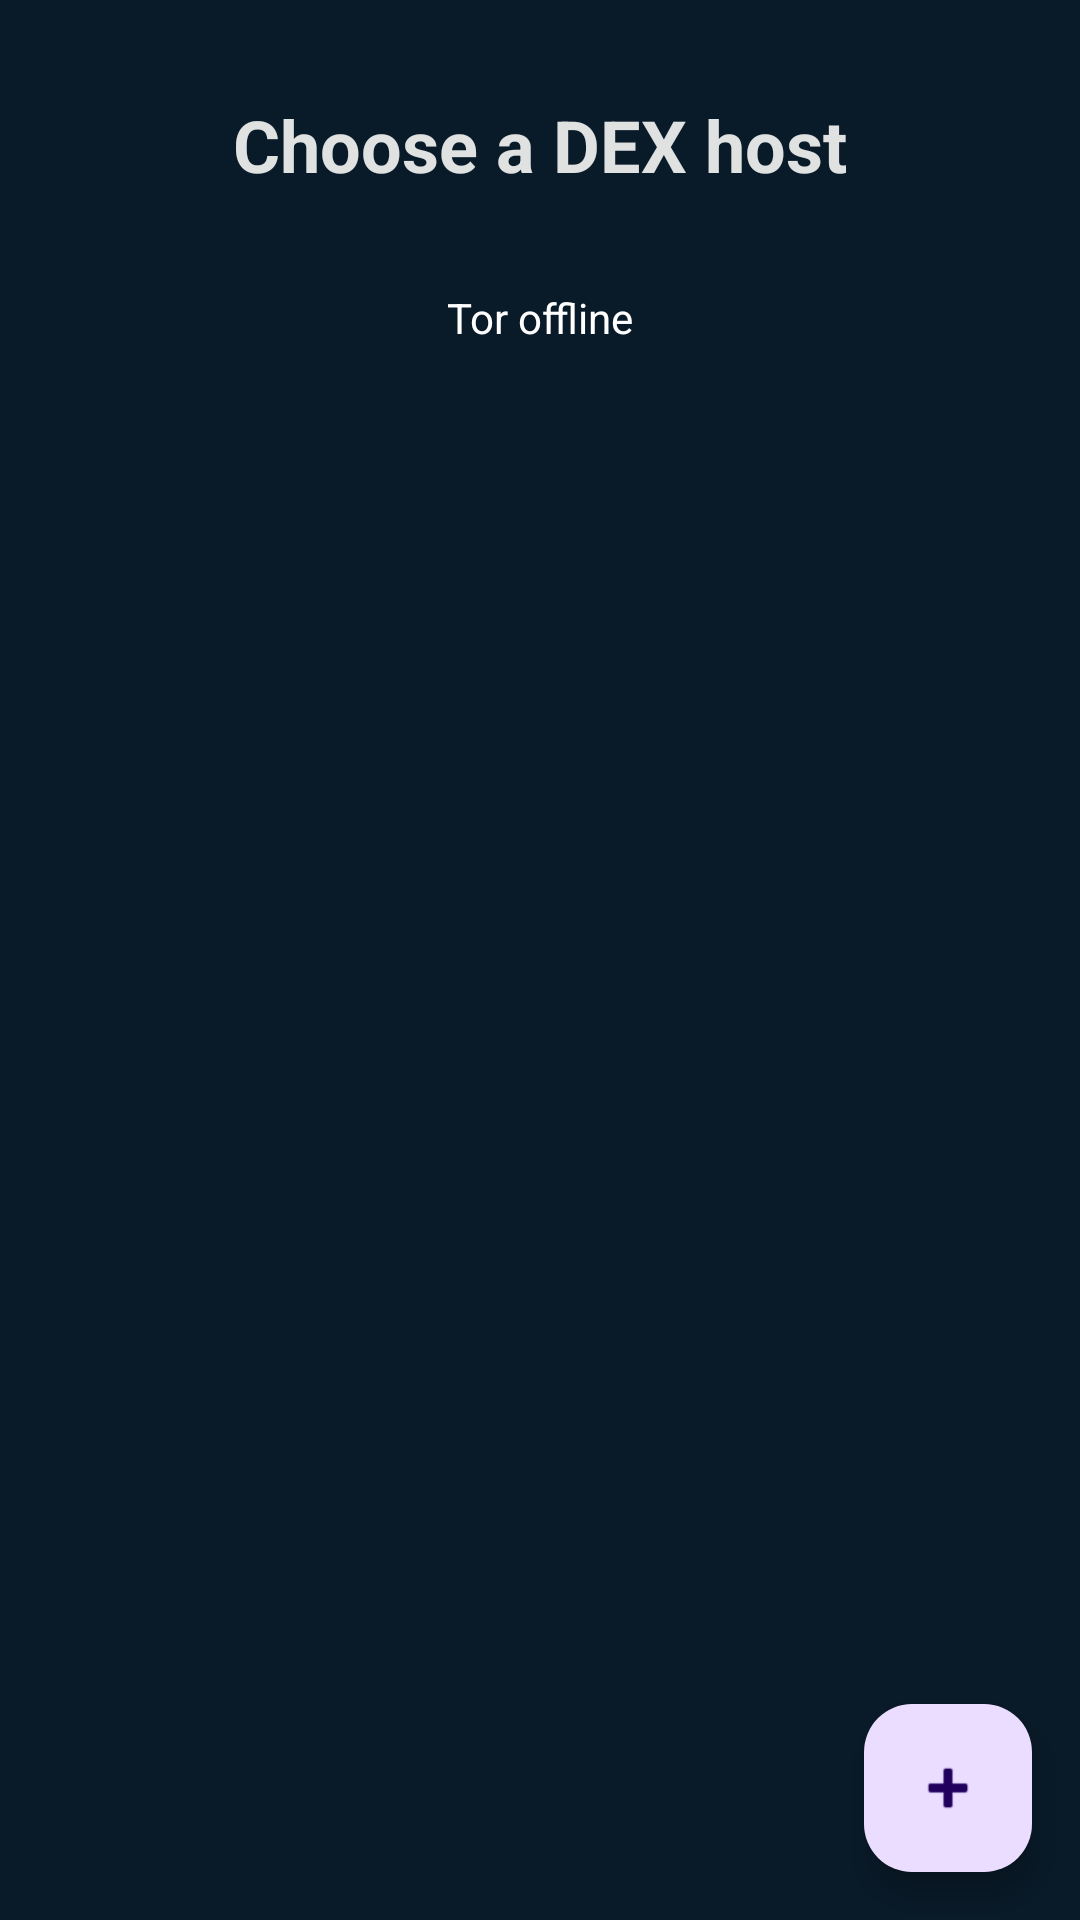

Named icons in this screenshot (1080 x 1920) and their centers, (x=x, y=y):
Pair DEX client: (x=948, y=1788)
